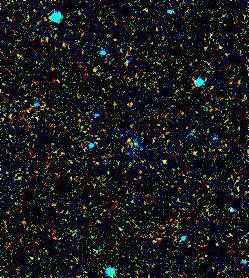star: (151, 145, 181, 175)
